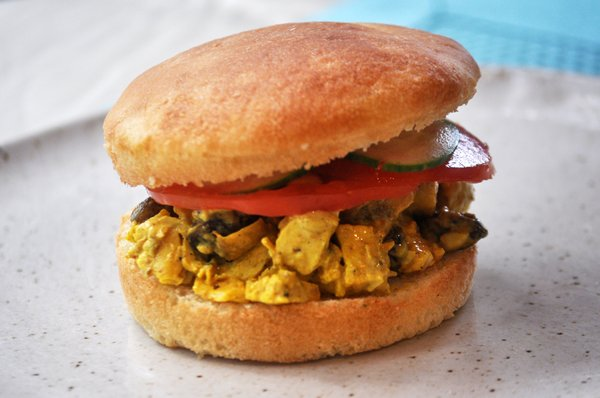soup: (104, 19, 495, 365)
